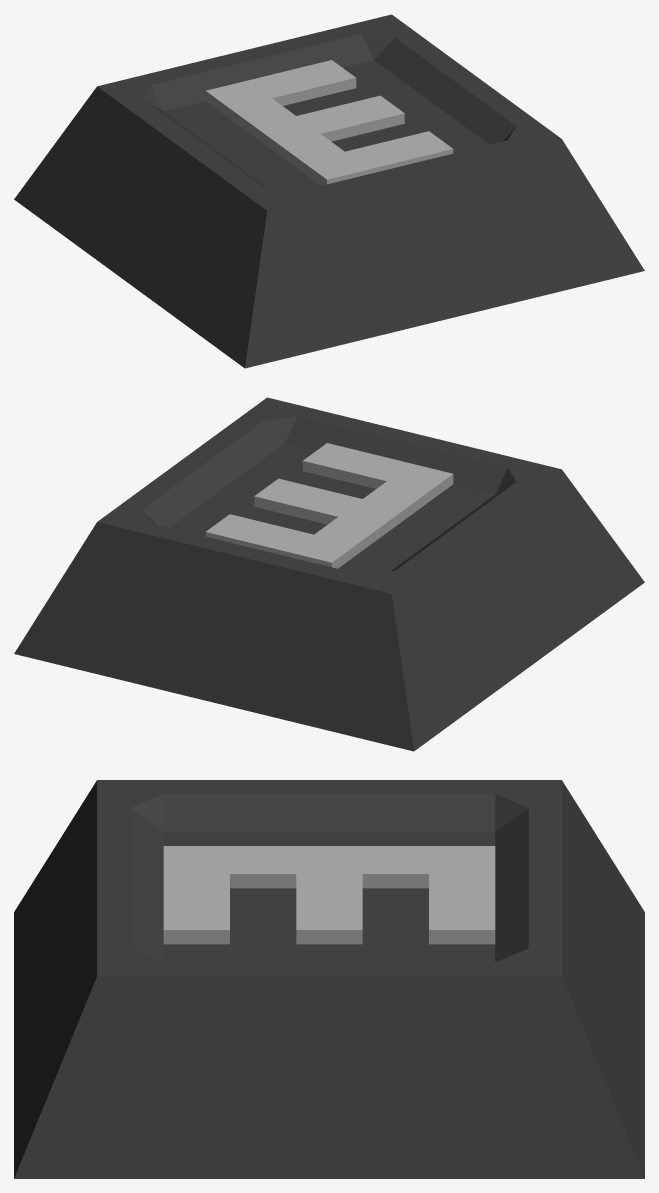
Rendered from KeyE.dae.
3 renders of one model, top to bottom at view 1: azimuth 30°, elevation 25°; view 2: azimuth 150°, elevation 25°; view 3: azimuth 270°, elevation 25°, orthographic. The views are drawn at different scales.
Visible parts, largest first — view 1: Cube; view 2: Cube; view 3: Cube.
Part boxes in pixels (x1,y1,x2,y2): Cube: [14, 14, 644, 368]; Cube: [14, 397, 644, 751]; Cube: [14, 780, 644, 1178].
Bounding box in the file's own units: 2 × 2 × 0.5855.
1 material, 1 textured.
